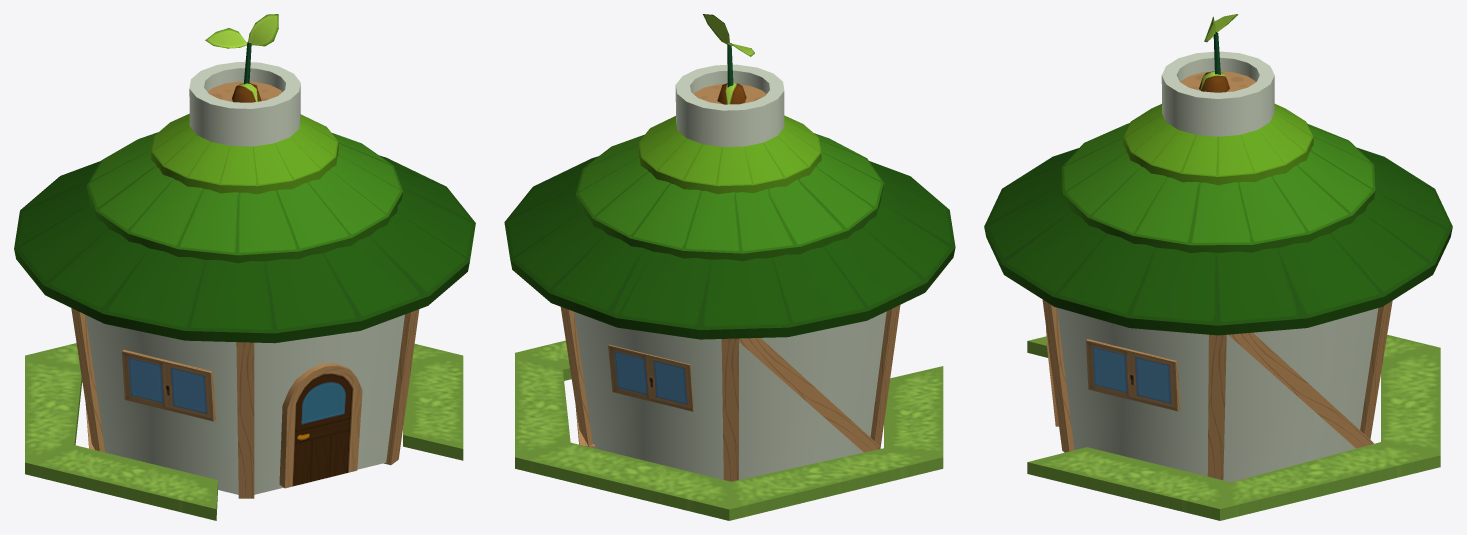
Rendered from building_Herbal_lv2.FBX.
The picture shows the model from 3 angles, left to right: view 1: azimuth 30°, elevation 25°; view 2: azimuth 150°, elevation 25°; view 3: azimuth 270°, elevation 25°; orthographic projection. The views are drawn at different scales.
Parts seen in each view (by area): view 1: building_Herbal_roof_lv2, building_Herbal_lv2, building_Herbal_main_lv2, building_Herbal_plant_lv2; view 2: building_Herbal_roof_lv2, building_Herbal_lv2, building_Herbal_main_lv2, building_Herbal_plant_lv2; view 3: building_Herbal_roof_lv2, building_Herbal_lv2, building_Herbal_main_lv2, building_Herbal_plant_lv2.
Boxes of the visible parts, x1,y1,x2,y2 form: building_Herbal_roof_lv2: [14, 113, 475, 343]; building_Herbal_lv2: [25, 62, 463, 520]; building_Herbal_main_lv2: [85, 314, 404, 494]; building_Herbal_plant_lv2: [205, 14, 278, 102]; building_Herbal_roof_lv2: [504, 115, 955, 339]; building_Herbal_lv2: [515, 64, 943, 520]; building_Herbal_main_lv2: [574, 311, 886, 479]; building_Herbal_plant_lv2: [703, 14, 754, 104]; building_Herbal_roof_lv2: [984, 104, 1452, 335]; building_Herbal_lv2: [1027, 51, 1440, 520]; building_Herbal_main_lv2: [1057, 307, 1378, 482]; building_Herbal_plant_lv2: [1199, 14, 1238, 92].
Size of the model in its own units: 439 by 390 by 404.
